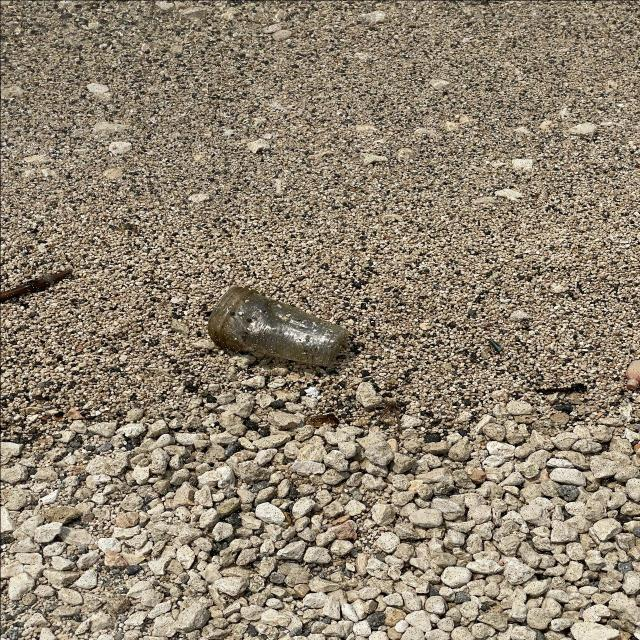plastic_waste: (206, 286, 351, 369)
